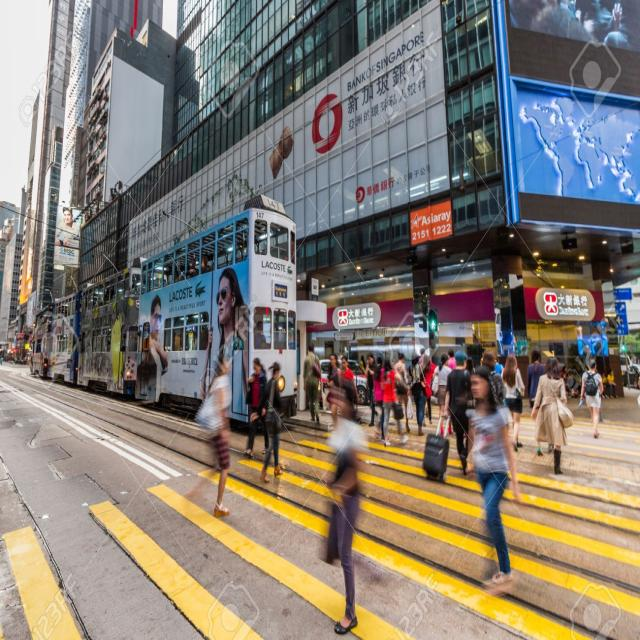body: (464, 365, 522, 586), (319, 378, 365, 634), (190, 349, 233, 519), (201, 268, 246, 407), (529, 355, 576, 476), (441, 348, 480, 478), (526, 349, 555, 457), (140, 294, 170, 398), (259, 360, 284, 483), (379, 357, 410, 448), (499, 352, 526, 454), (244, 355, 270, 459), (572, 0, 624, 45), (577, 356, 604, 441), (407, 349, 433, 437), (430, 352, 454, 437), (302, 341, 324, 424), (392, 350, 411, 436), (482, 350, 507, 408), (363, 350, 381, 430), (326, 352, 342, 431), (54, 206, 81, 252), (420, 352, 437, 425), (372, 354, 386, 442), (340, 354, 360, 406), (253, 320, 271, 350), (606, 367, 618, 399), (569, 366, 579, 399), (184, 257, 200, 277), (560, 365, 571, 393), (200, 254, 215, 274), (418, 347, 426, 382), (447, 347, 458, 372), (493, 354, 505, 374), (127, 332, 137, 352), (359, 355, 366, 372), (601, 370, 608, 385), (274, 326, 280, 338), (162, 277, 167, 287), (174, 276, 178, 283)
